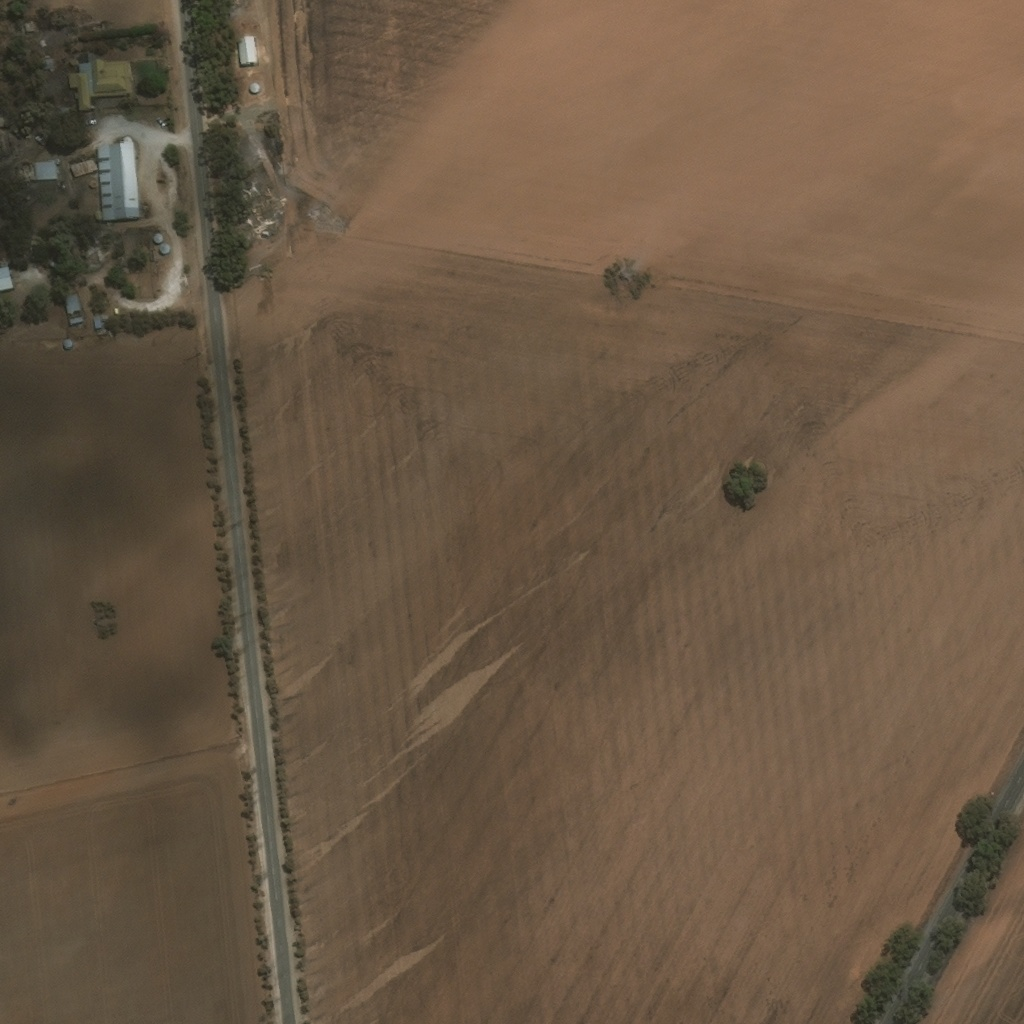0 no-damage: (97, 141, 141, 223), (69, 52, 130, 110), (15, 161, 58, 182), (65, 293, 85, 325), (239, 34, 258, 67), (70, 159, 98, 180), (0, 265, 17, 291), (93, 314, 110, 332), (249, 82, 261, 94), (24, 22, 34, 36), (64, 338, 75, 349), (160, 243, 171, 253), (153, 232, 164, 242), (94, 209, 103, 220), (122, 135, 132, 142), (89, 179, 96, 189)
3 destroyed: (251, 189, 276, 237), (114, 331, 125, 344)
4 un-classified: (0, 131, 17, 160)
